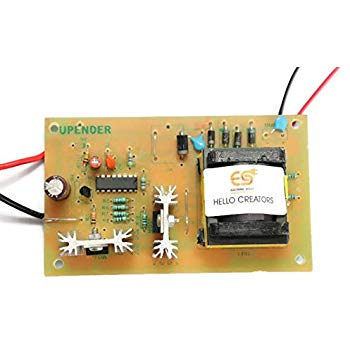capacitor: (44, 175, 70, 200), (90, 156, 102, 168)
resistor: (112, 205, 130, 211), (111, 197, 128, 203), (113, 211, 130, 217), (142, 214, 148, 228), (83, 150, 89, 164), (112, 217, 128, 222), (141, 177, 147, 190), (91, 211, 97, 224), (128, 152, 133, 167)
